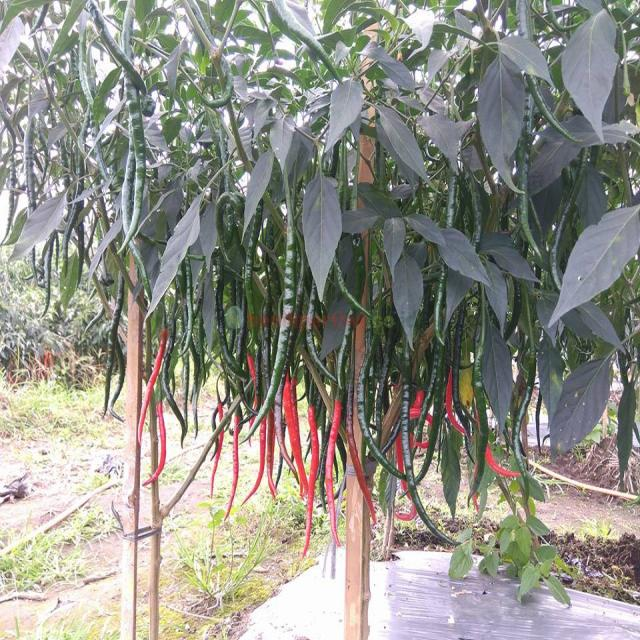sehat: (541, 198, 640, 336), (474, 53, 538, 193), (566, 4, 622, 138), (298, 170, 342, 304), (480, 318, 514, 436), (238, 144, 279, 238), (390, 248, 426, 354), (318, 70, 364, 146)
